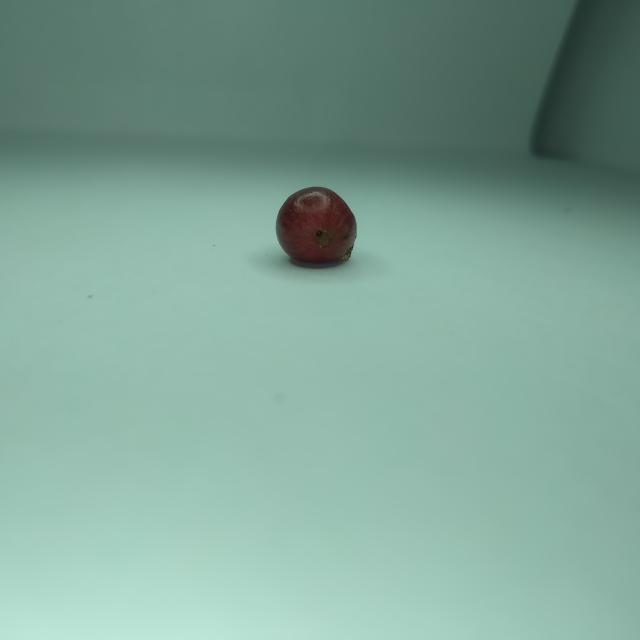Infectado: (277, 187, 356, 266)
